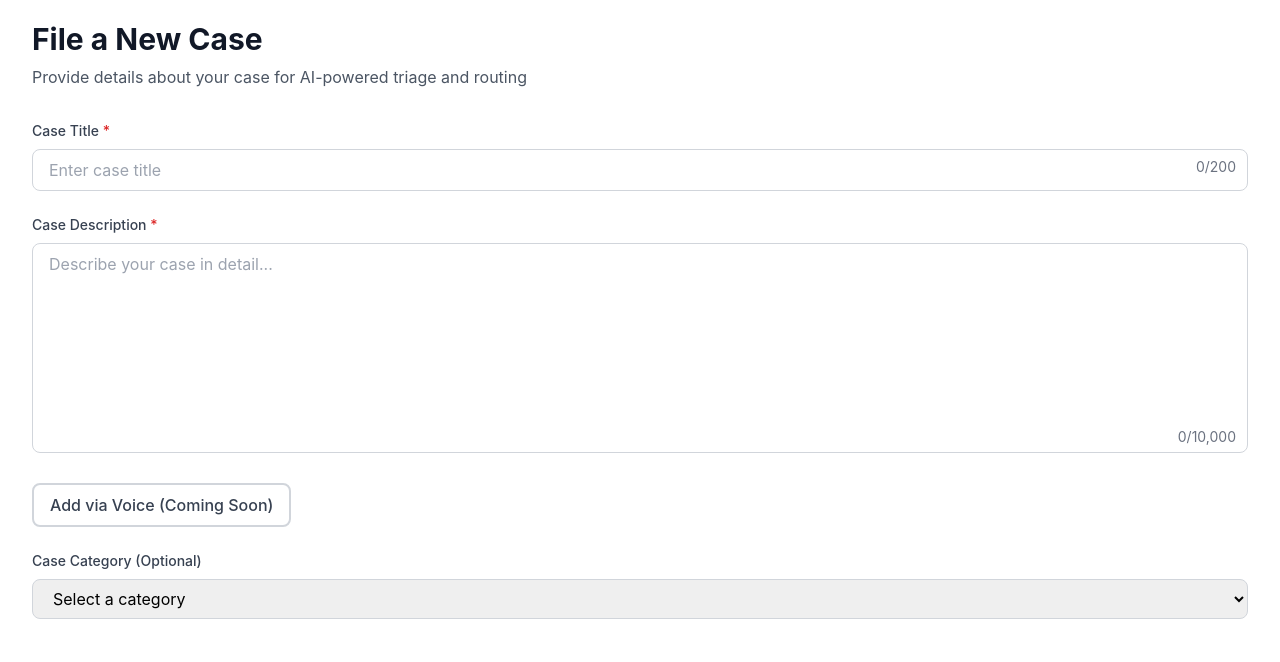
Scenario: CaseForm › should display error message on submission failure
In the field with placeholder "Enter case title": (640, 170) [32,149,1248,191], type "Test Case"
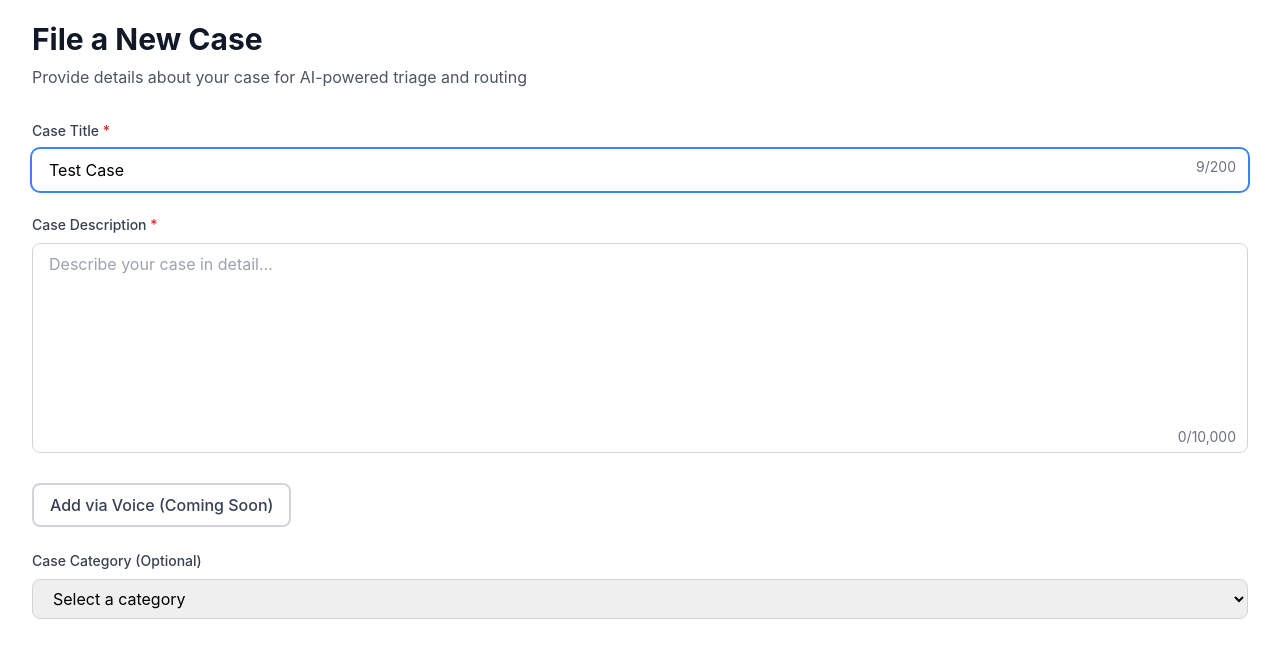
In the text box with placeholder "Describe your case in detail...": (640, 348) [32,243,1248,453], type "Test Description"
(page scrolled)
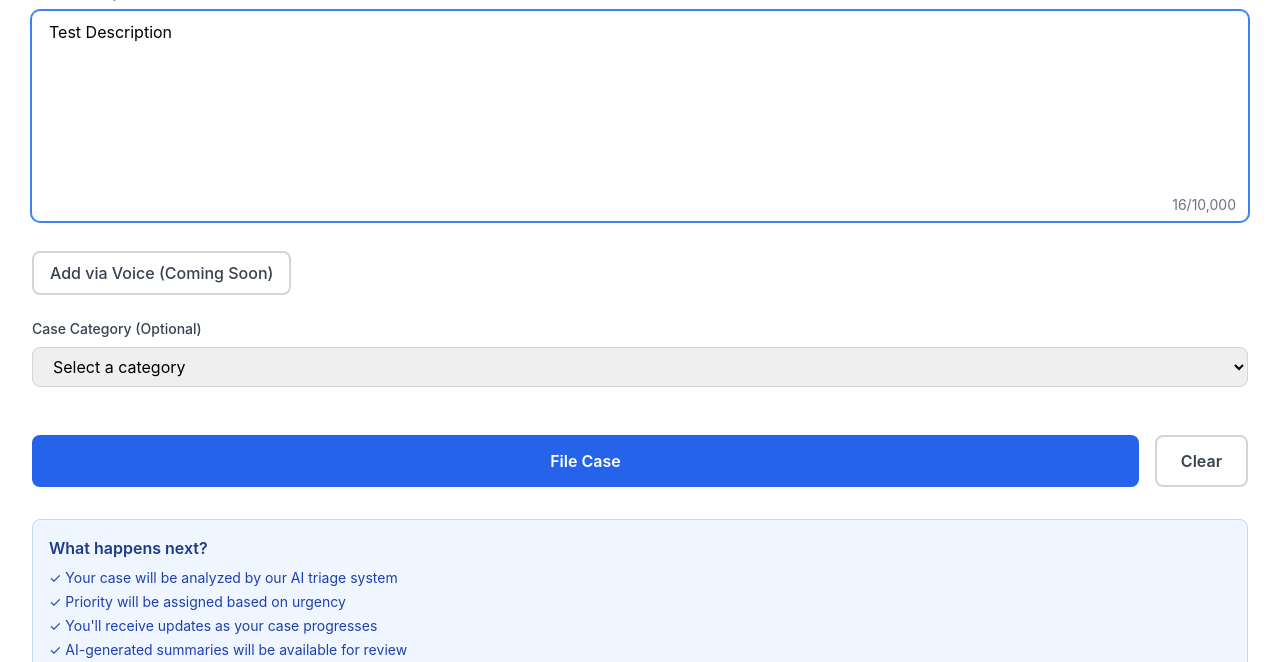
Click the button "File Case": (585, 461) [32,435,1139,487]
(page scrolled)
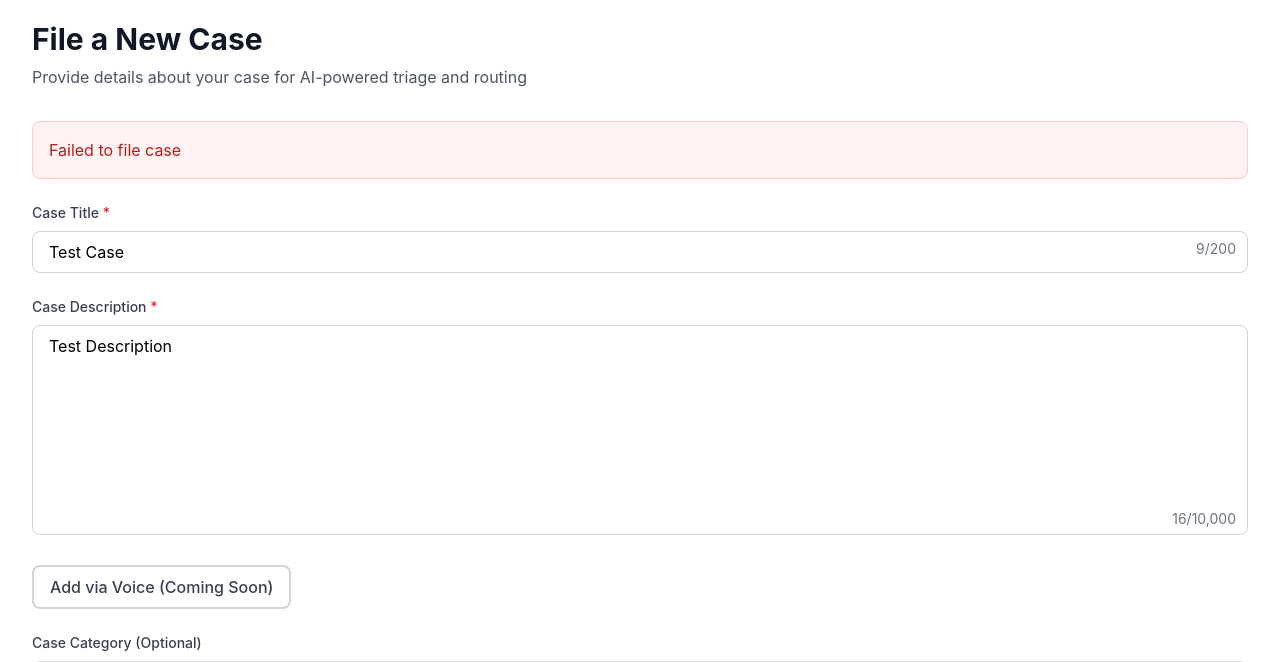
Now the text "Failed to file case" is shown, box [49,138,181,162]
